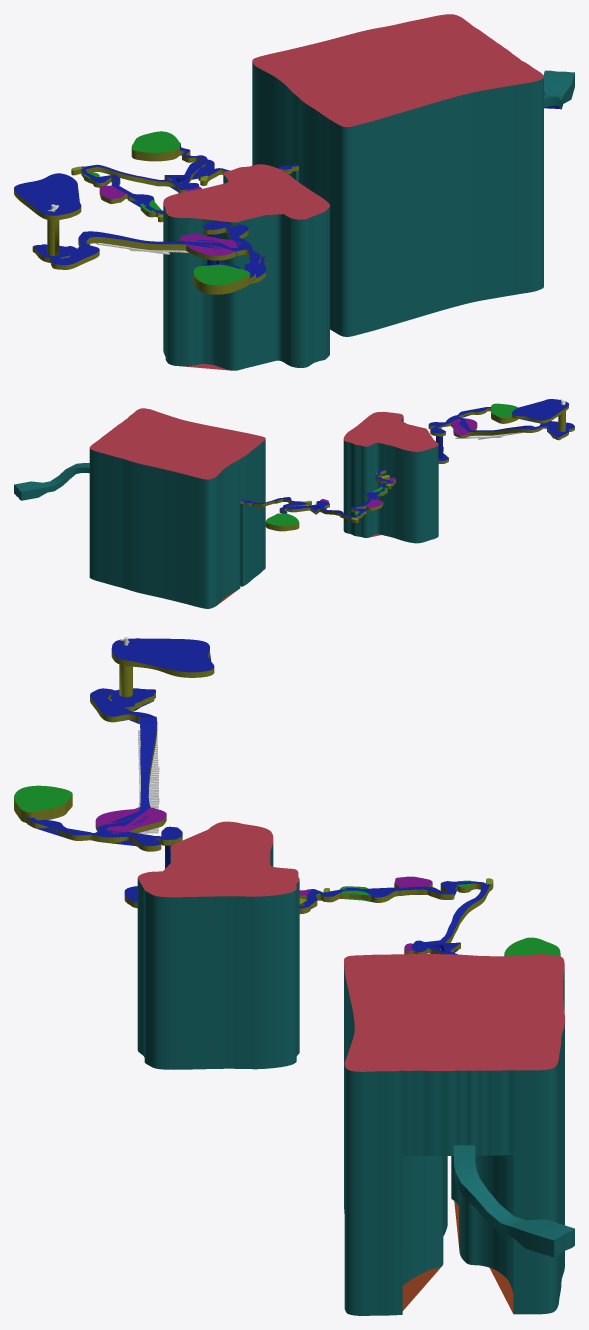
The model's file is World-Whitebox - Dungeon - Draft Final V5.fbx.
The picture shows the model from 3 angles, top to bottom: view 1: azimuth 30°, elevation 25°; view 2: azimuth 150°, elevation 25°; view 3: azimuth 270°, elevation 25°; orthographic projection. The views are drawn at different scales.
Parts seen in each view (by area): view 1: Dungeon Floor Layout (Floor 1-4) 3D; view 2: Dungeon Floor Layout (Floor 1-4) 3D; view 3: Dungeon Floor Layout (Floor 1-4) 3D.
Boxes of the visible parts, <box> form: Dungeon Floor Layout (Floor 1-4) 3D: <box>14,14,574,370</box>; Dungeon Floor Layout (Floor 1-4) 3D: <box>14,399,574,608</box>; Dungeon Floor Layout (Floor 1-4) 3D: <box>14,638,574,1315</box>.
Bounding box in the file's own units: 54851 × 21603 × 31972.
